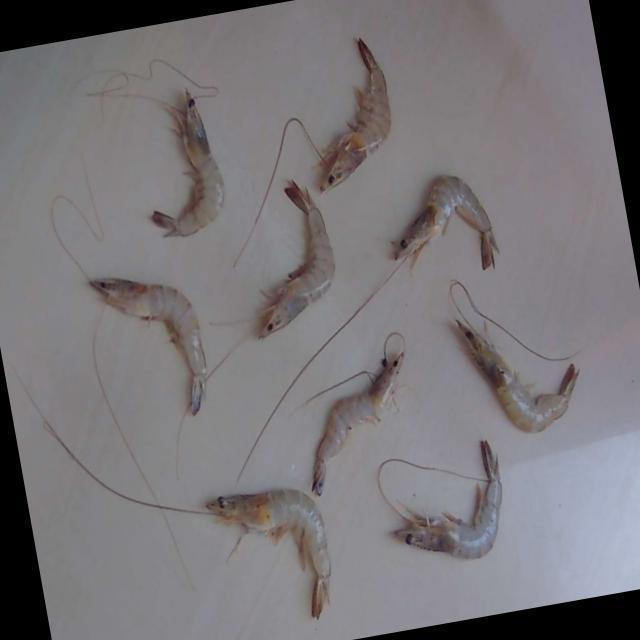shrimp: (207, 490, 331, 620), (89, 278, 205, 415), (458, 321, 579, 433), (312, 353, 404, 496), (396, 441, 503, 559), (260, 180, 335, 340), (320, 38, 391, 191), (151, 89, 223, 236), (395, 175, 499, 268)
